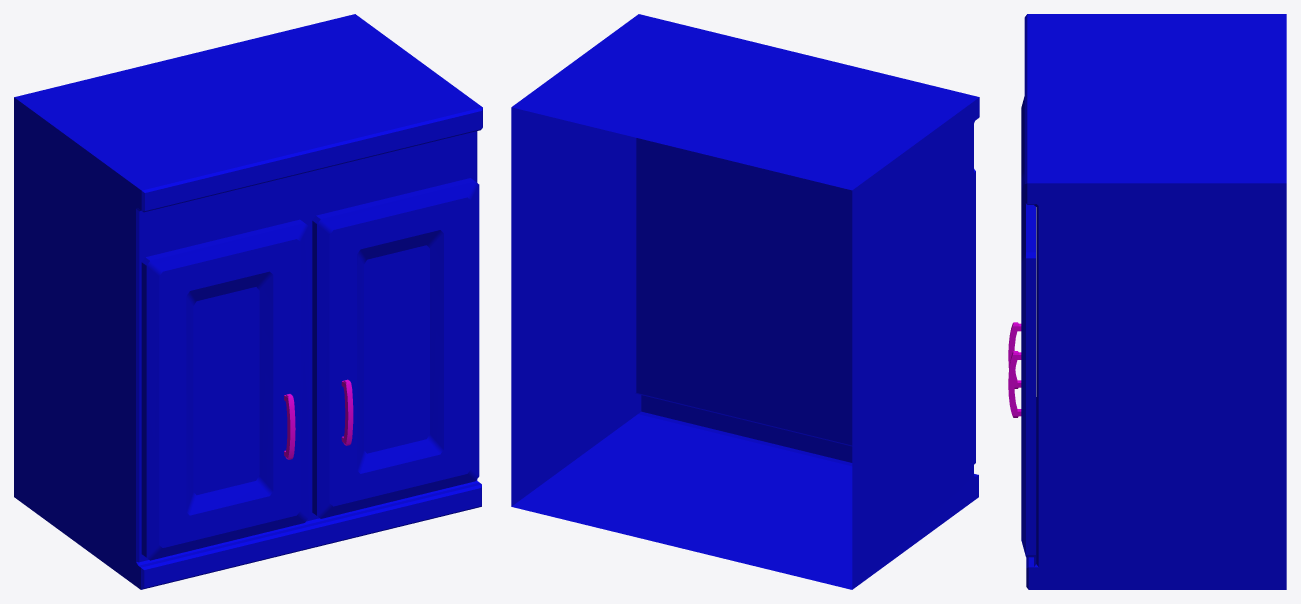
Rendered from Kitchen_WallCabinet.fbx.
3 renders of one model, left to right at view 1: azimuth 30°, elevation 25°; view 2: azimuth 150°, elevation 25°; view 3: azimuth 270°, elevation 25°, orthographic.
Parts seen in each view (by area): view 1: SM_Cabinet4; view 2: SM_Cabinet4; view 3: SM_Cabinet4.
Part boxes in pixels (x1,y1,x2,y2): SM_Cabinet4: (14, 14, 482, 589); SM_Cabinet4: (511, 14, 979, 589); SM_Cabinet4: (1008, 14, 1286, 589).
Bounding box in the file's own units: 100 × 112 × 69.49.
